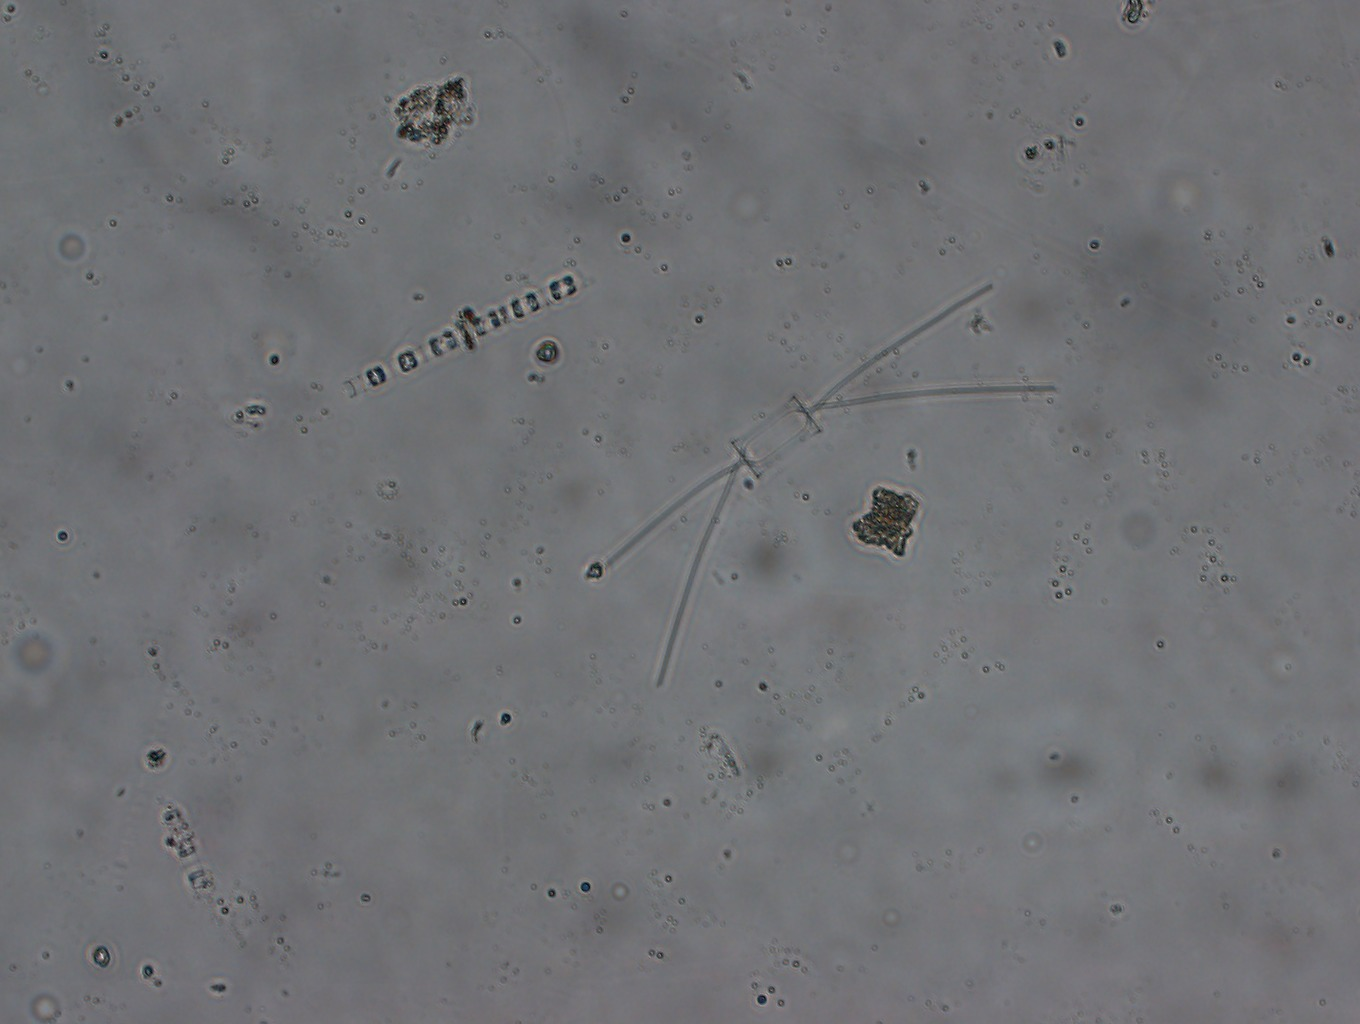chaetoceros: (605, 284, 1059, 689)
skeletonema: (341, 266, 586, 397)
